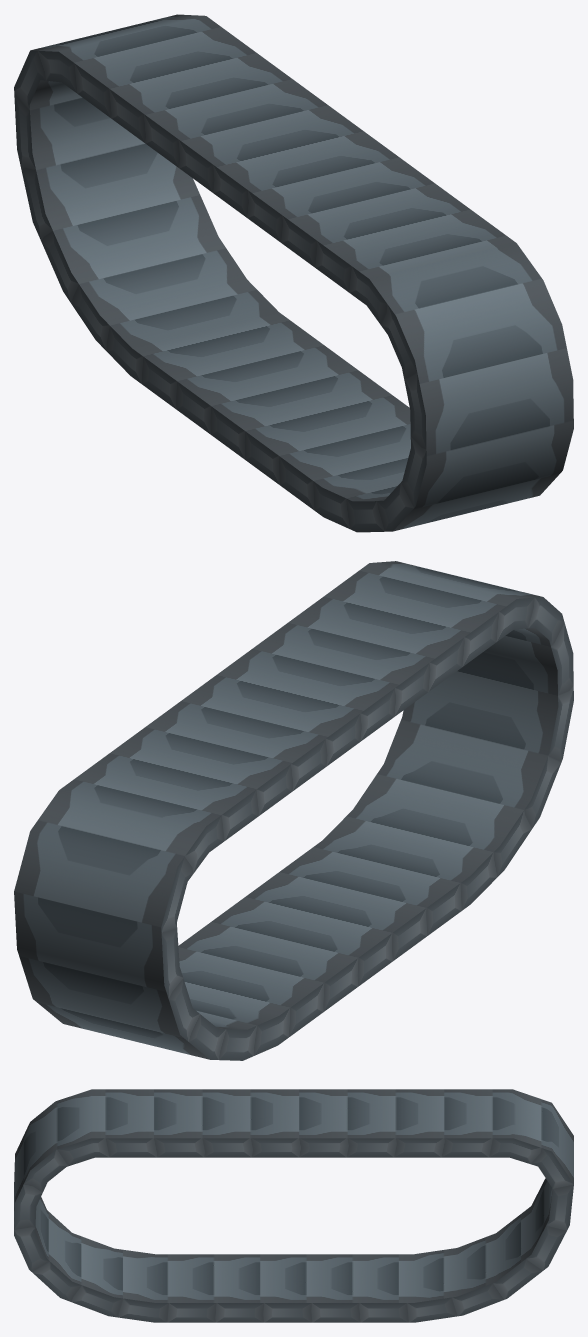
The model's file is tank_2_track_002.fbx.
3 renders of one model, top to bottom at view 1: azimuth 30°, elevation 25°; view 2: azimuth 150°, elevation 25°; view 3: azimuth 270°, elevation 25°, orthographic. The views are drawn at different scales.
Parts seen in each view (by area): view 1: tank_2_track_002; view 2: tank_2_track_002; view 3: tank_2_track_002.
Part boxes in pixels (x1,y1,x2,y2): tank_2_track_002: (14, 14, 573, 532); tank_2_track_002: (14, 561, 573, 1060); tank_2_track_002: (14, 1089, 573, 1322).
Size of the model in its own units: 165 by 803 by 292.
